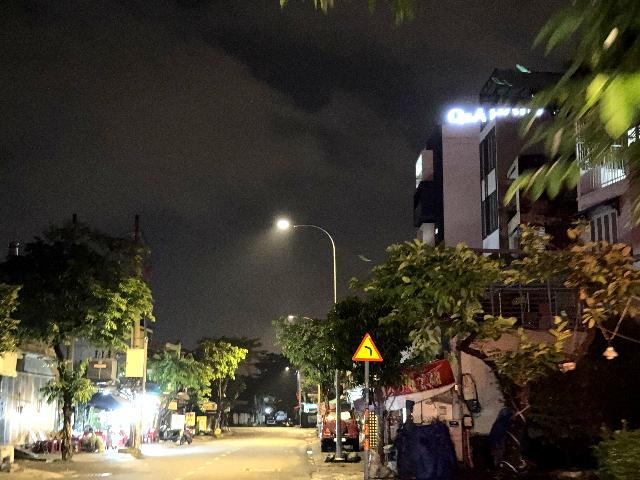cho-ngoat-nguy-hiem-ben-trai: (352, 333, 383, 362)
